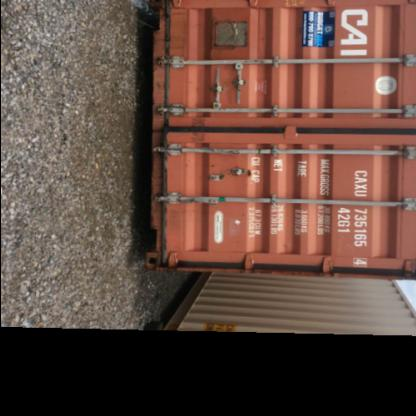Damage: (145, 141, 176, 268), (154, 1, 184, 130), (184, 112, 215, 150)
